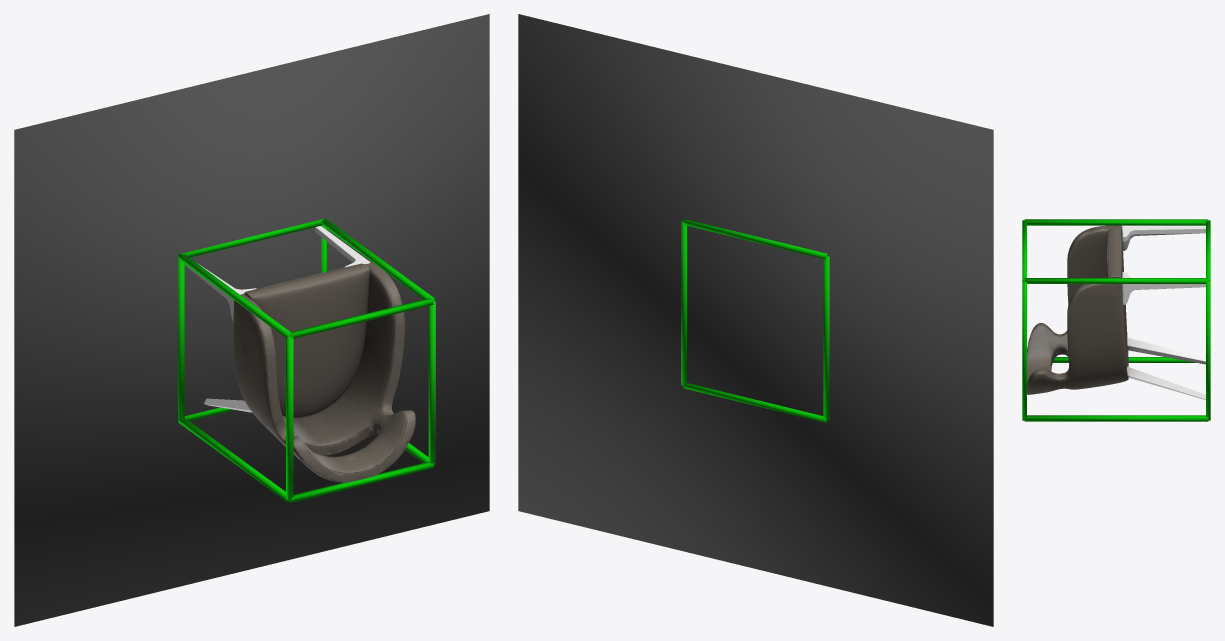
3 views of the same model, side by side, from view 1: azimuth 30°, elevation 25°; view 2: azimuth 150°, elevation 25°; view 3: azimuth 270°, elevation 25° (orthographic). The views are drawn at different scales.
Size of the model in its own units: 2 by 2 by 0.816.
